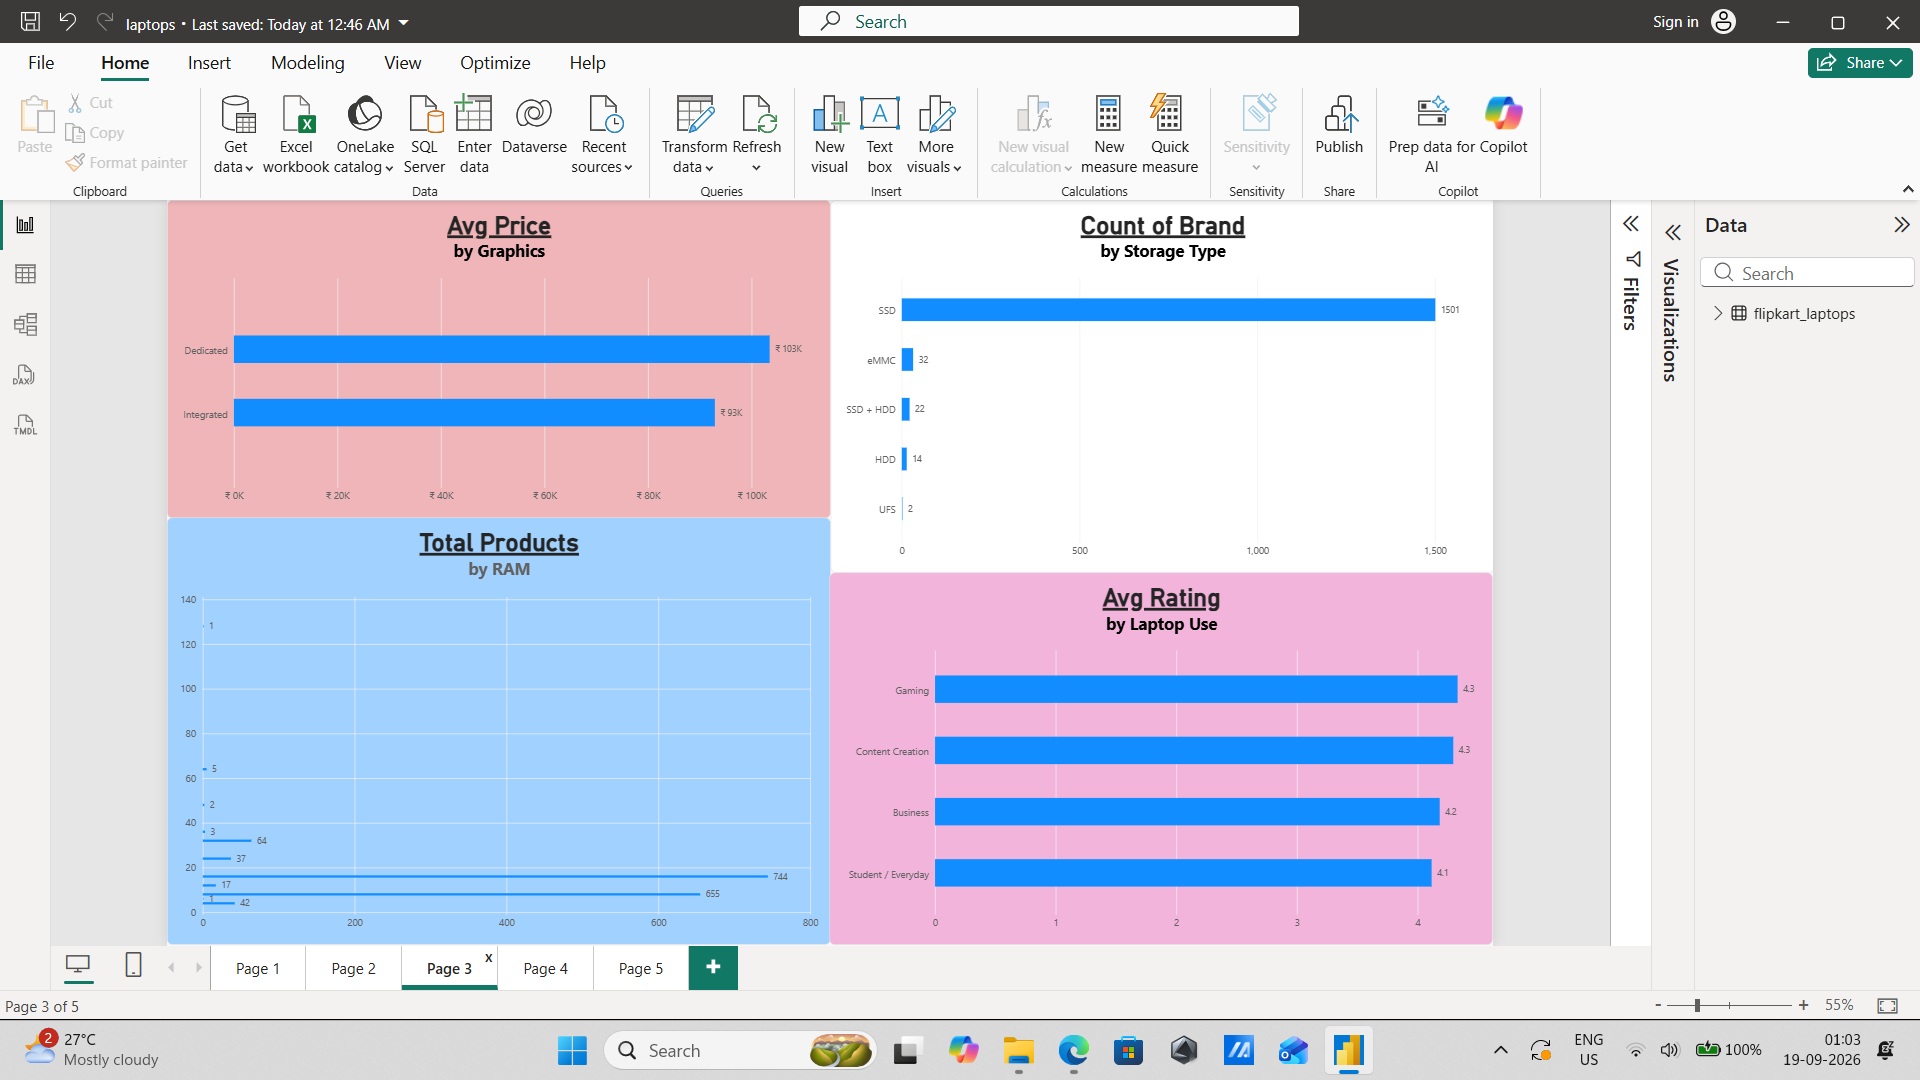

The dashboard page shown, as its layout file describes it:
{"tool":"powerbi","page":{"name":"Page 3","canvas":[1920,1080],"ordinal":2},"visuals":[{"type":"clusteredBarChart","fields":{"Category":["flipkart_laptops.Graphics"],"Y":["flipkart_laptops.Avg Price"]},"box":[0,0,960.5,460.5],"z":0},{"type":"clusteredBarChart","fields":{"Category":["flipkart_laptops.RAM"],"Y":["flipkart_laptops.Total Products"]},"box":[0,460.5,960.5,618.6],"z":1},{"type":"barChart","fields":{"Category":["flipkart_laptops.Storage Type"],"Y":["CountNonNull(flipkart_laptops.Brand)"]},"box":[960.5,0,960.5,539.5],"z":2},{"type":"clusteredBarChart","fields":{"Category":["flipkart_laptops.Laptop Use"],"Y":["flipkart_laptops.Avg Rating"]},"box":[960,540,960,539],"z":3}]}

Visuals, with their boxes on the page's 1920x1080 design canvas (x1, y1, x2, y2). These are canvas units, not pixel positions in the 1920x1080 screenshot, which may show the page scaled, cropped or inside an application window:
clusteredBarChart - flipkart_laptops.Graphics x flipkart_laptops.Avg Price: {"left": 0, "top": 0, "right": 960, "bottom": 460}
clusteredBarChart - flipkart_laptops.RAM x flipkart_laptops.Total Products: {"left": 0, "top": 460, "right": 960, "bottom": 1079}
barChart - flipkart_laptops.Storage Type x CountNonNull(flipkart_laptops.Brand): {"left": 960, "top": 0, "right": 1921, "bottom": 540}
clusteredBarChart - flipkart_laptops.Laptop Use x flipkart_laptops.Avg Rating: {"left": 960, "top": 540, "right": 1920, "bottom": 1079}
